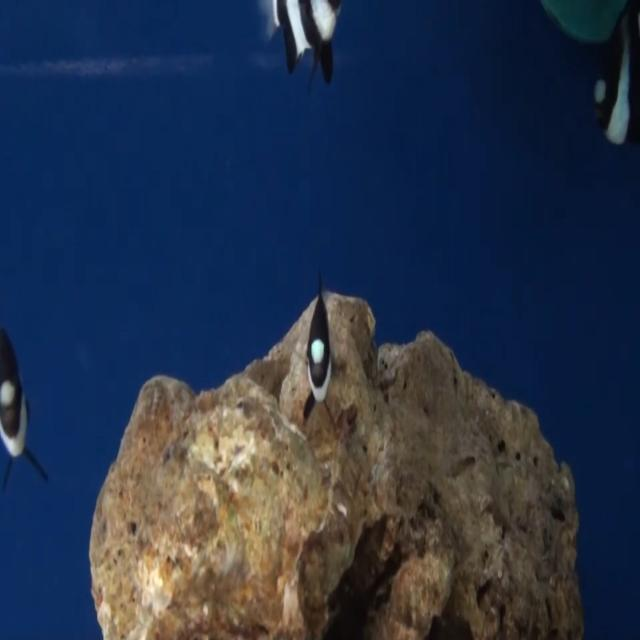ThreeStripedDamselfish: (304, 295, 335, 421)
